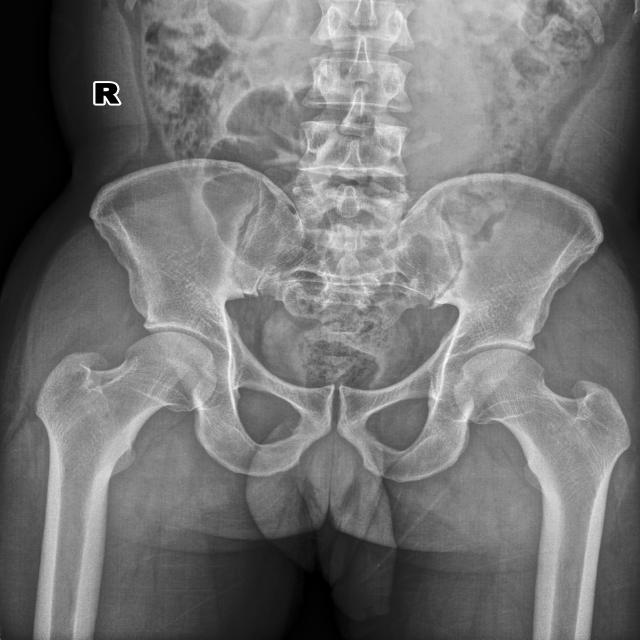normal-left: (455, 349, 631, 582)
normal-right: (36, 332, 216, 558)
